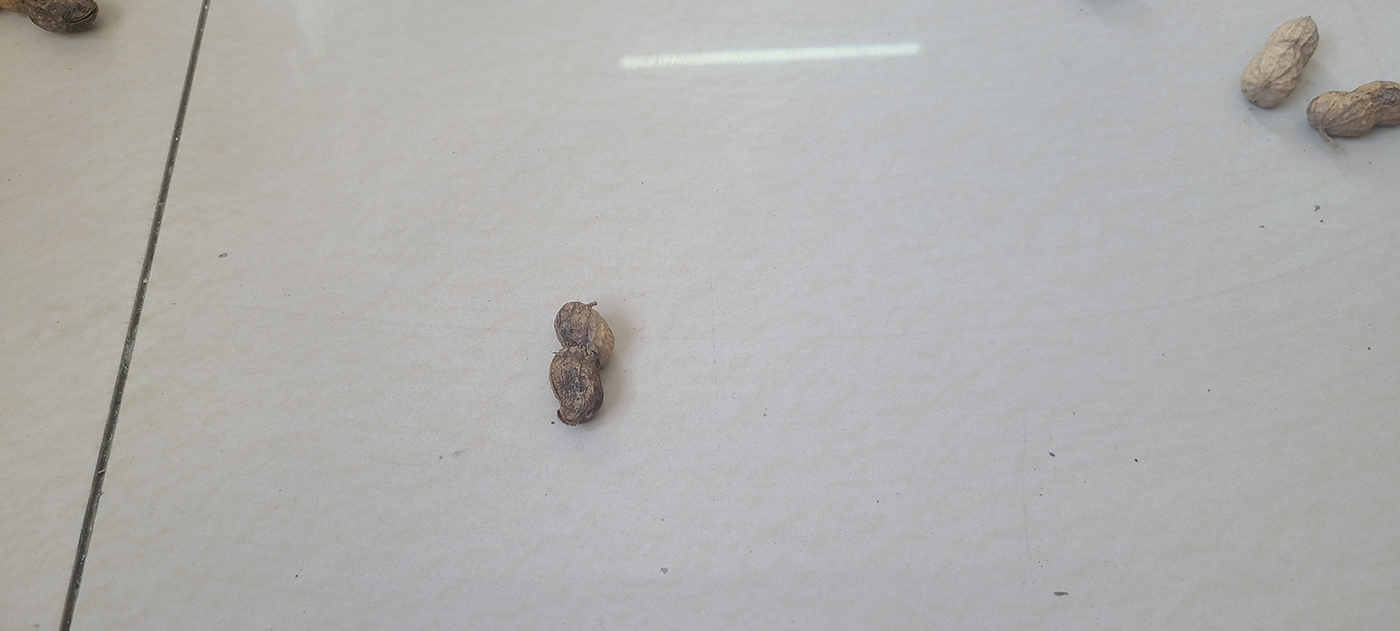h: (1239, 16, 1318, 109)
l: (550, 296, 618, 426), (1308, 79, 1400, 141)
